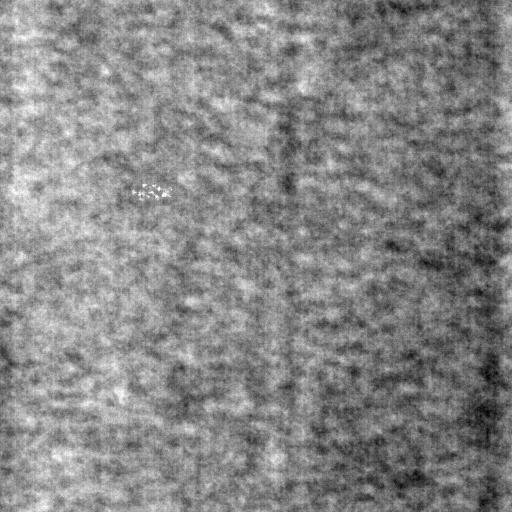DefectTypeA: (131, 185, 173, 201)
